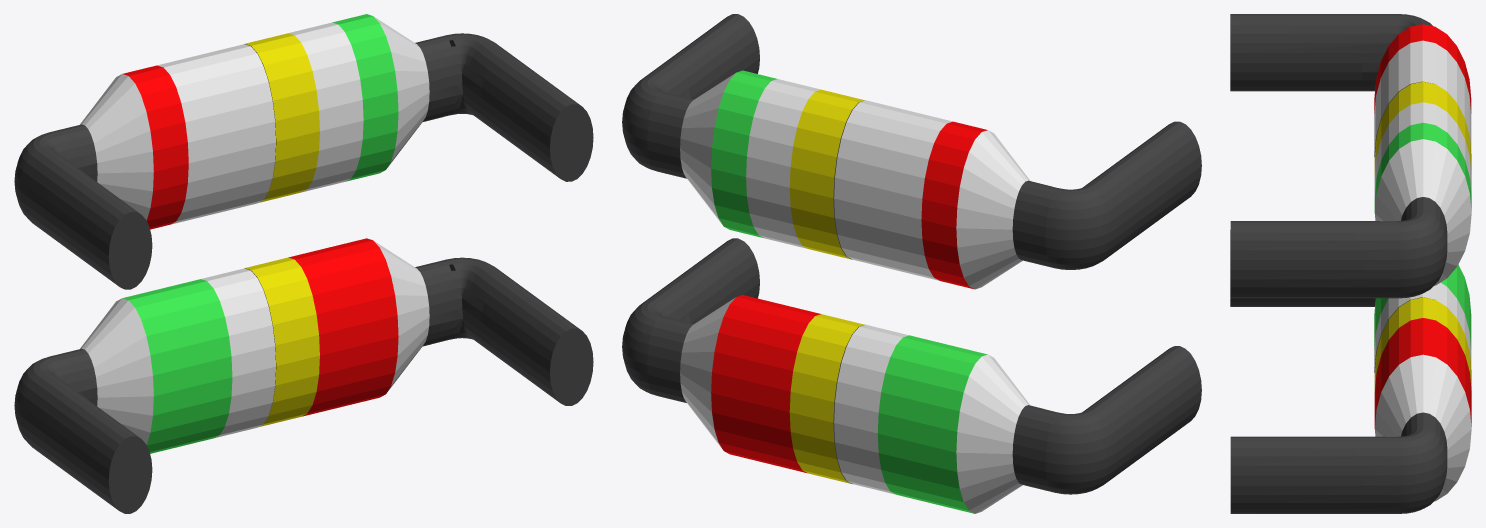
File: Resistor-Upgrade1.fbx
3 views of the same model, side by side, from view 1: azimuth 30°, elevation 25°; view 2: azimuth 150°, elevation 25°; view 3: azimuth 270°, elevation 25° (orthographic). The views are drawn at different scales.
Parts seen in each view (by area): view 1: Resistor1.002; view 2: Resistor1.002; view 3: Resistor1.002.
Boxes of the visible parts, x1,y1,x2,y2 form: Resistor1.002: (14, 14, 593, 513); Resistor1.002: (622, 14, 1201, 513); Resistor1.002: (1230, 14, 1471, 513).
Size of the model in its own units: 145 by 109 by 65.18.
